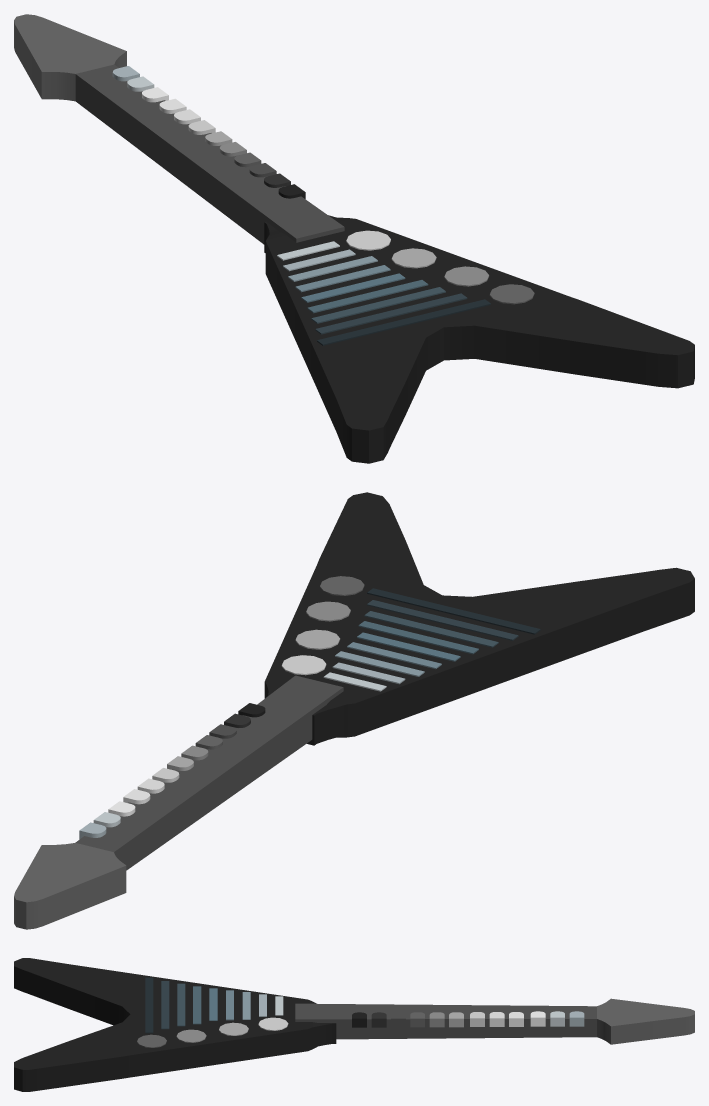
Rendered from Guitar_3.fbx.
The picture shows the model from 3 angles, top to bottom: view 1: azimuth 30°, elevation 25°; view 2: azimuth 150°, elevation 25°; view 3: azimuth 270°, elevation 25°; orthographic projection. The views are drawn at different scales.
Parts seen in each view (by area): view 1: Guitar_3; view 2: Guitar_3; view 3: Guitar_3.
Boxes of the visible parts, box(x1,y1,x2,y2) form: Guitar_3: box(14, 14, 694, 463); Guitar_3: box(14, 492, 694, 929); Guitar_3: box(14, 958, 694, 1091).
Size of the model in its own units: 40.43 by 4.5 by 104.
Materials: 1 (1 with a texture image).
